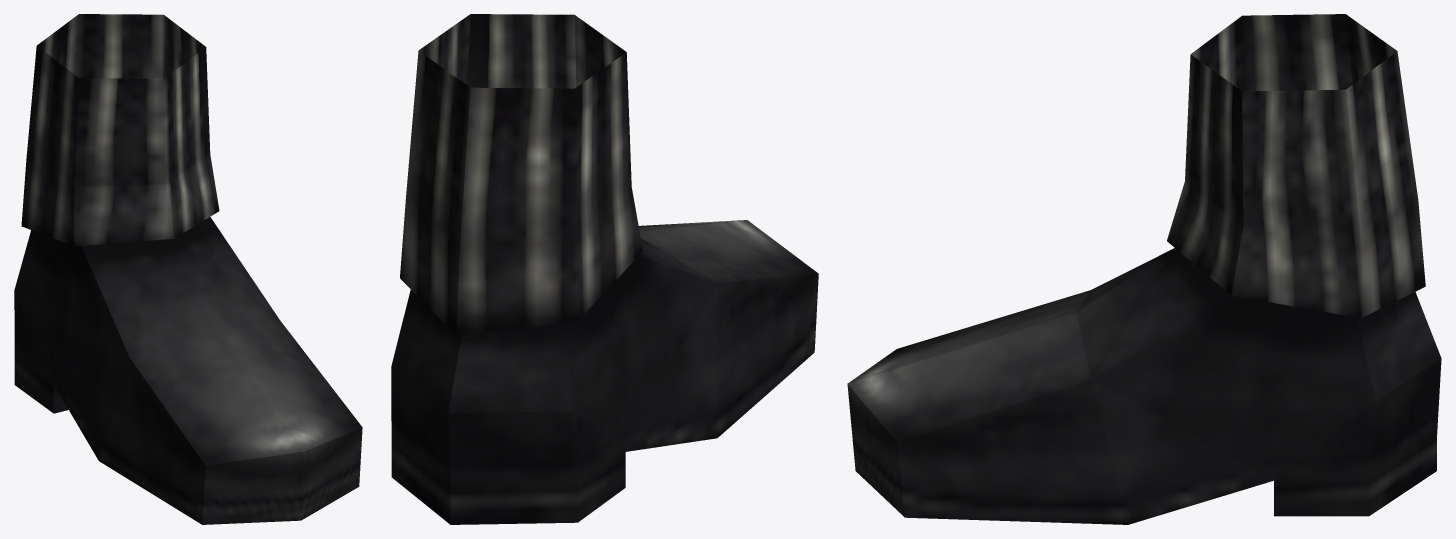
The model's file is Jack_pie_der.obj.
3 views of the same model, side by side, from view 1: azimuth 30°, elevation 25°; view 2: azimuth 150°, elevation 25°; view 3: azimuth 270°, elevation 25° (orthographic). The views are drawn at different scales.
Visible parts, largest first — view 1: rdmobj01.011_rdmobj01.014; view 2: rdmobj01.011_rdmobj01.014; view 3: rdmobj01.011_rdmobj01.014.
Boxes of the visible parts, <box> form: rdmobj01.011_rdmobj01.014: <box>14,14,362,524</box>; rdmobj01.011_rdmobj01.014: <box>391,14,818,524</box>; rdmobj01.011_rdmobj01.014: <box>847,14,1441,524</box>.
Bounding box in the file's own units: 0.0739 × 0.1341 × 0.1719.
Materials: 1 (1 with a texture image).
